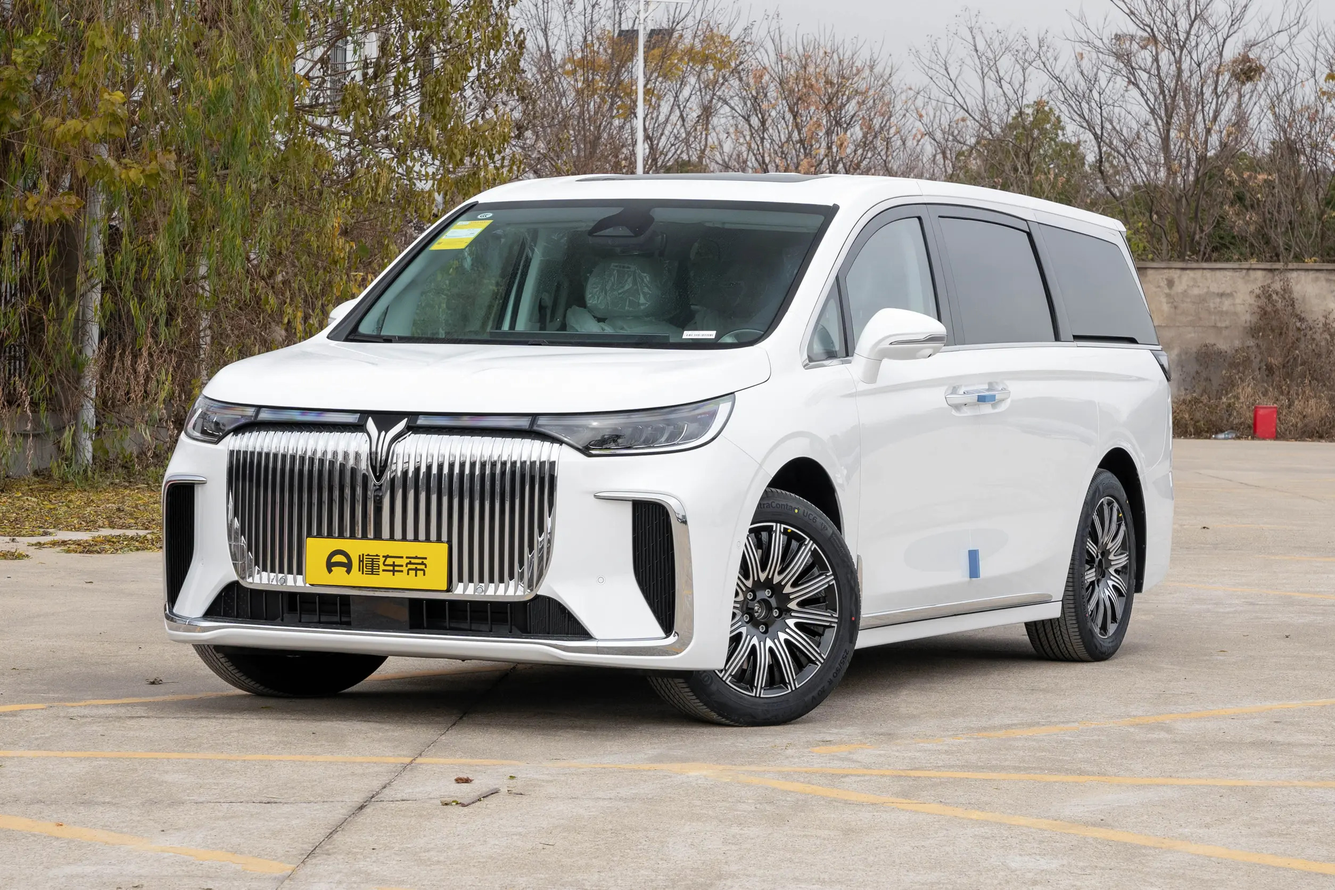VOYAH: (366, 417, 407, 476)
